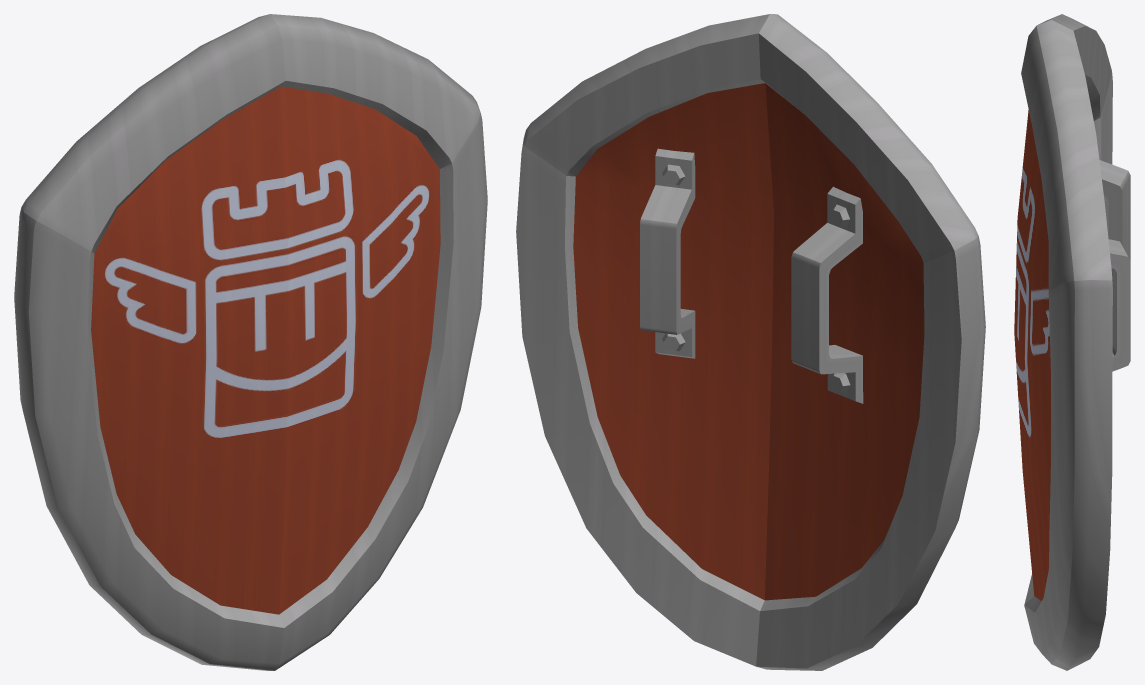
Rendered from quest shield.glb.
3 renders of one model, left to right at view 1: azimuth 30°, elevation 25°; view 2: azimuth 150°, elevation 25°; view 3: azimuth 270°, elevation 25°, orthographic. The views are drawn at different scales.
Visible parts, largest first — view 1: Quest_Shield; view 2: Quest_Shield; view 3: Quest_Shield.
Part boxes in pixels (left/top/right/bottom): Quest_Shield: left=14, top=14, right=487, bottom=670; Quest_Shield: left=516, top=14, right=985, bottom=670; Quest_Shield: left=1014, top=14, right=1130, bottom=670.
Bounding box in the file's own units: 0.5886 × 0.792 × 0.1308.
Materials: 1 (1 with a texture image).
